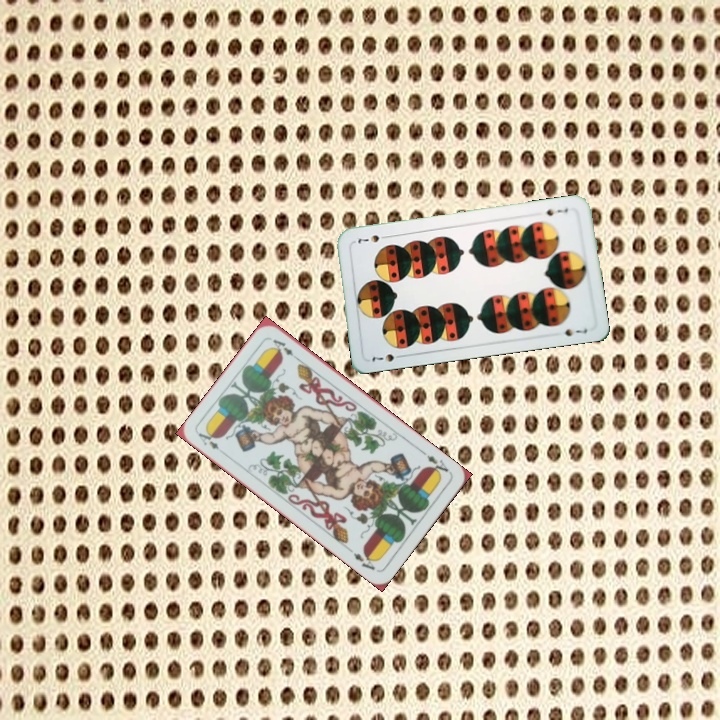EA: (194, 427, 229, 458), (418, 447, 451, 479)
S7: (368, 350, 406, 365), (540, 204, 570, 218)
